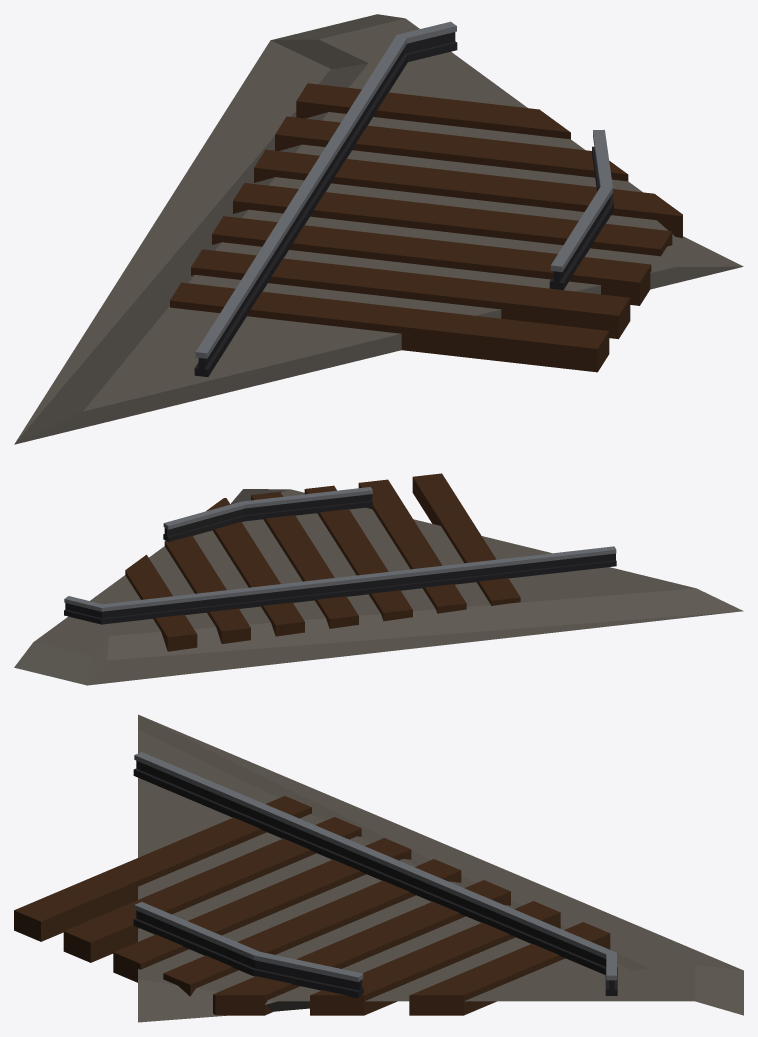
File: SM_Rail_Diagonal_Join_B.obj
3 views of the same model, one above another, from view 1: azimuth 30°, elevation 25°; view 2: azimuth 150°, elevation 25°; view 3: azimuth 270°, elevation 25° (orthographic). The views are drawn at different scales.
Visible parts, largest first — view 1: SM_Rail_Diagonal_Join_B; view 2: SM_Rail_Diagonal_Join_B; view 3: SM_Rail_Diagonal_Join_B.
Part boxes in pixels (x1=…): SM_Rail_Diagonal_Join_B: x1=14, y1=14, x2=743, y2=444; SM_Rail_Diagonal_Join_B: x1=14, y1=473, x2=743, y2=685; SM_Rail_Diagonal_Join_B: x1=14, y1=714, x2=743, y2=1022.
Bounding box in the file's own units: 4.19 × 0.254 × 4.19.
